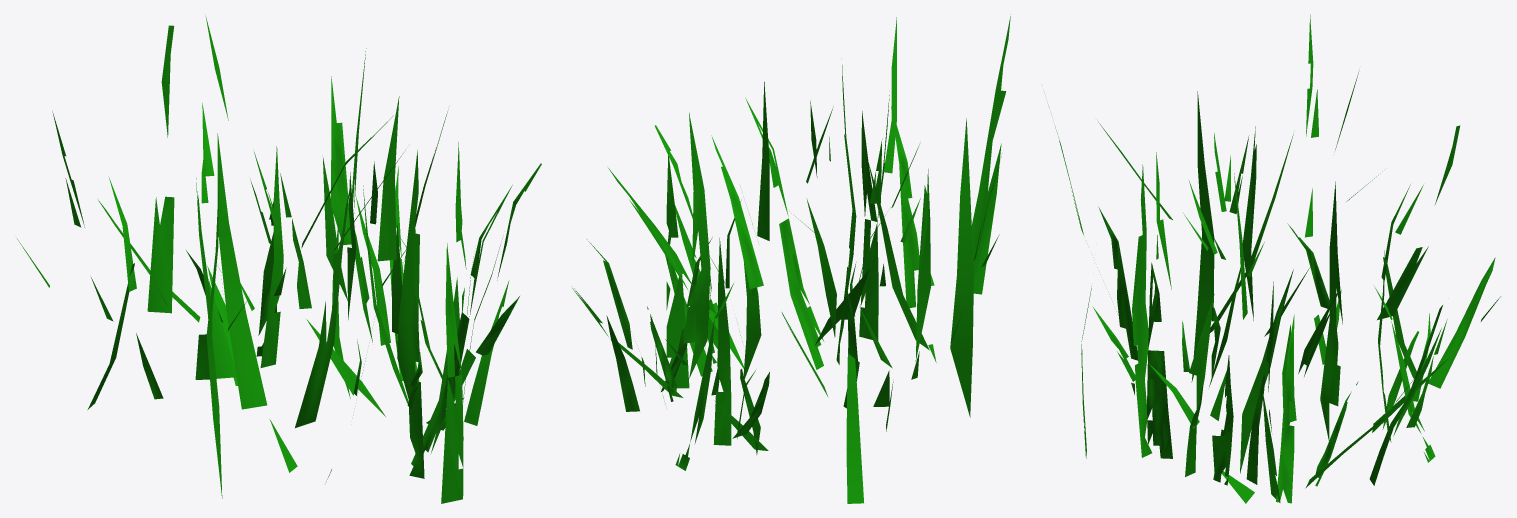
The model's file is grass1.glb.
3 views of the same model, side by side, from view 1: azimuth 30°, elevation 25°; view 2: azimuth 150°, elevation 25°; view 3: azimuth 270°, elevation 25° (orthographic). The views are drawn at different scales.
Parts seen in each view (by area): view 1: Object_2.001; view 2: Object_2.001; view 3: Object_2.001.
Part boxes in pixels (<box>): Object_2.001: <box>17,16,541,503</box>; Object_2.001: <box>572,14,1010,503</box>; Object_2.001: <box>1048,14,1500,503</box>.
Bounding box in the file's own units: 18.56 × 16.79 × 19.38.
